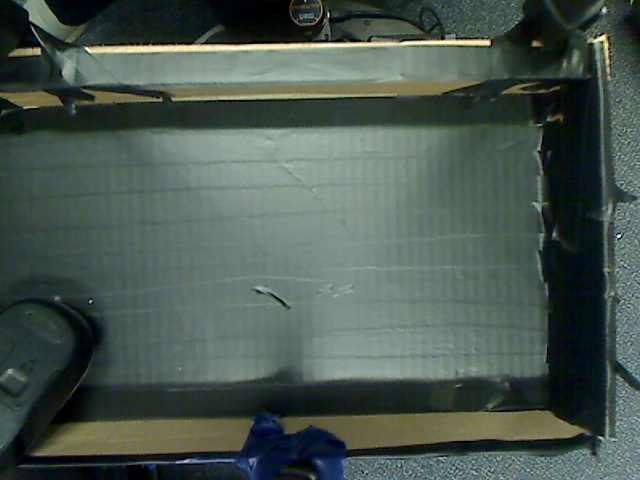mouse: (1, 275, 118, 456)
